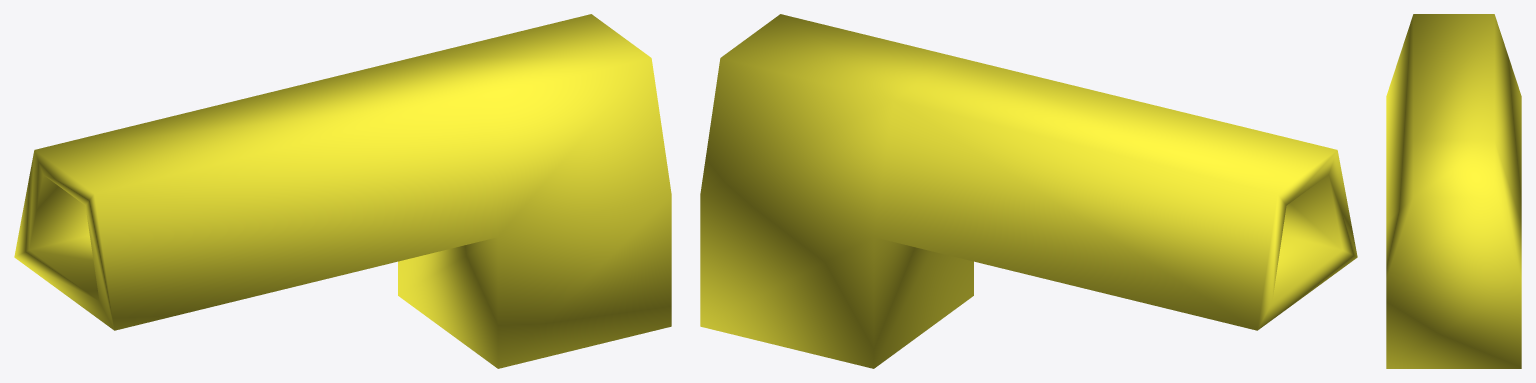
Rendered from tank topper.fbx.
The picture shows the model from 3 angles, left to right: view 1: azimuth 30°, elevation 25°; view 2: azimuth 150°, elevation 25°; view 3: azimuth 270°, elevation 25°; orthographic projection. The views are drawn at different scales.
Visible parts, largest first — view 1: tank_topper; view 2: tank_topper; view 3: tank_topper.
Boxes of the visible parts, bbox=[...] form: tank_topper: bbox=[14, 14, 671, 368]; tank_topper: bbox=[700, 14, 1357, 368]; tank_topper: bbox=[1386, 14, 1521, 368].
Bounding box in the file's own units: 3.85 × 1.68 × 1.2.
